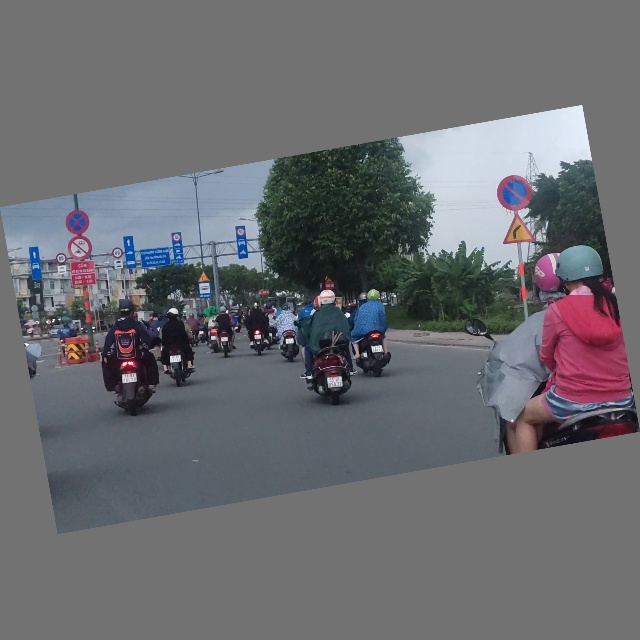I.434a: (197, 282, 212, 301)
P.111: (66, 235, 93, 263)
P.127*50: (236, 227, 246, 237), (172, 233, 181, 243)
P.127*60: (111, 247, 124, 261)
P.127*80: (56, 252, 68, 265)
P.130: (64, 209, 91, 238)
P.131a: (492, 172, 534, 215)
S.505a*Xe tai va cong: (112, 259, 124, 271)
W.201b: (498, 209, 538, 249), (197, 271, 209, 284)
